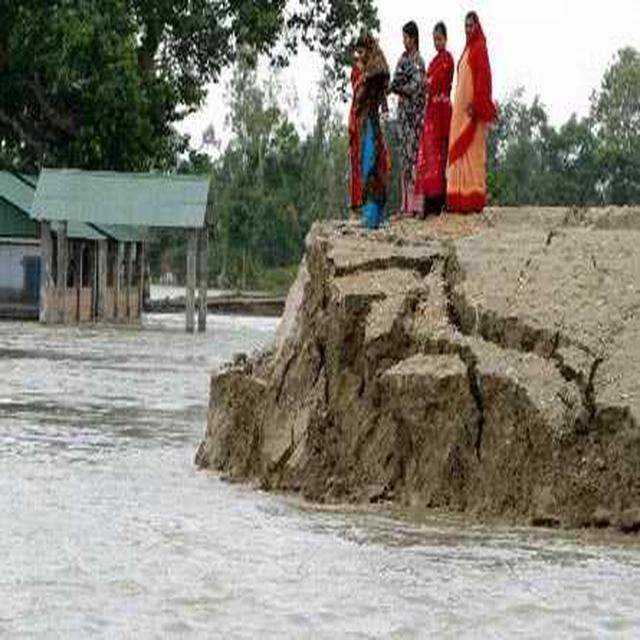Person-RiskLevel1: (340, 32, 395, 236), (451, 8, 504, 216), (389, 19, 426, 220), (421, 19, 459, 209)
